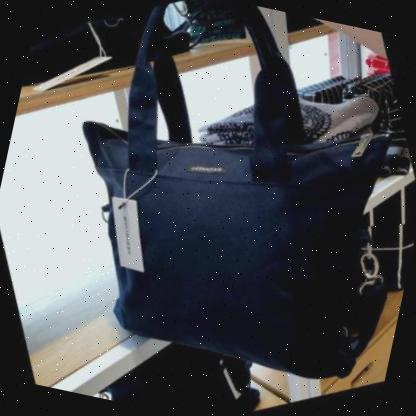bag: (32, 0, 416, 388)
